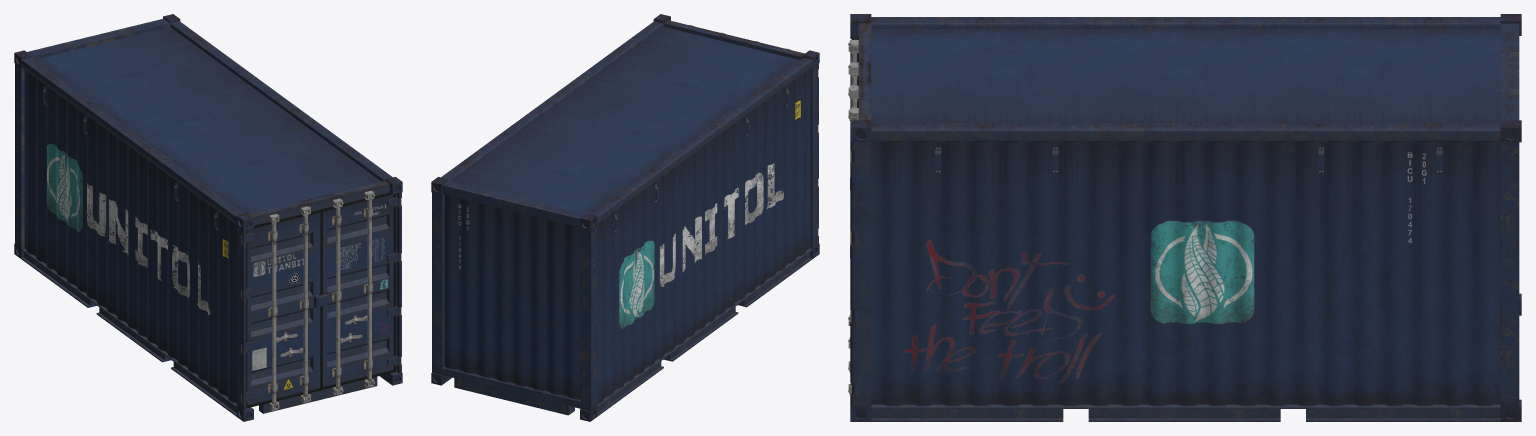
Rendered from container_blue.gltf.
3 renders of one model, left to right at view 1: azimuth 30°, elevation 25°; view 2: azimuth 150°, elevation 25°; view 3: azimuth 270°, elevation 25°, orthographic. The views are drawn at different scales.
Parts seen in each view (by area): view 1: Container; view 2: Container; view 3: Container.
Part boxes in pixels (left/top/right/bottom): Container: left=14, top=14, right=402, bottom=421; Container: left=431, top=14, right=819, bottom=421; Container: left=848, top=14, right=1521, bottom=421.
Size of the model in its own units: 2.4 by 2.9 by 6.01.
2 materials, 2 textured.
